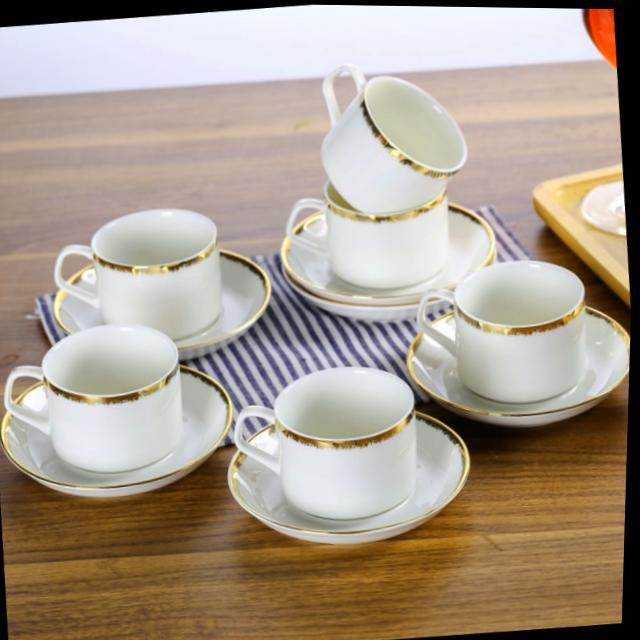cup: (215, 348, 480, 560)
